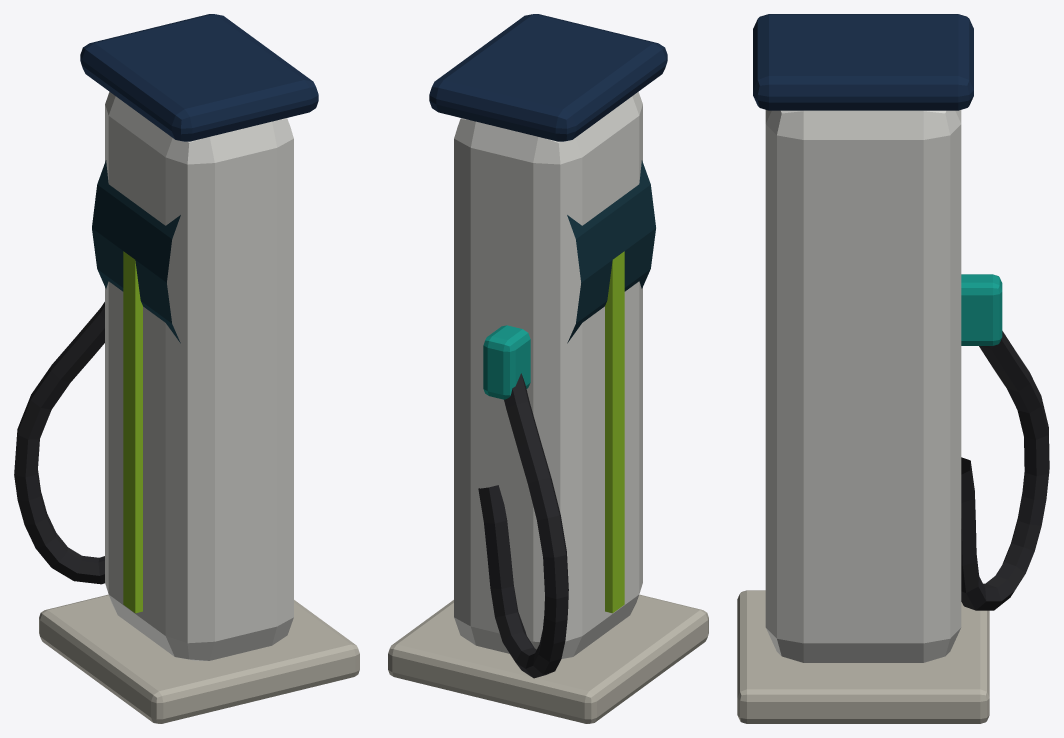
The model's file is fast_charger.glb.
3 views of the same model, side by side, from view 1: azimuth 30°, elevation 25°; view 2: azimuth 150°, elevation 25°; view 3: azimuth 270°, elevation 25° (orthographic). The views are drawn at different scales.
Parts seen in each view (by area): view 1: fast_charger; view 2: fast_charger; view 3: fast_charger.
Boxes of the visible parts, <box> form: fast_charger: <box>14,14,359,723</box>; fast_charger: <box>388,14,708,723</box>; fast_charger: <box>737,14,1049,723</box>.
Size of the model in its own units: 0.8001 by 2.2 by 0.9897.
